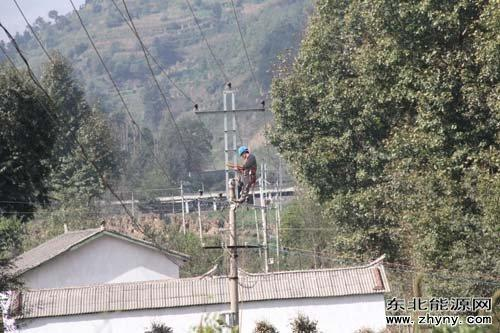boots: (234, 196, 246, 203)
gloves: (237, 166, 244, 172)
hard-hat: (238, 145, 248, 156)
person: (234, 145, 257, 203)
ppe-suit: (234, 146, 257, 203)
